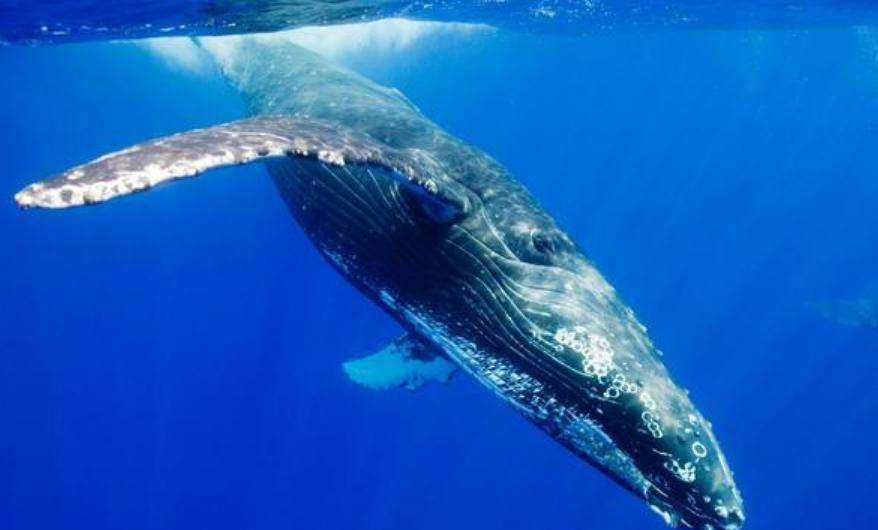fish: (13, 11, 745, 523)
